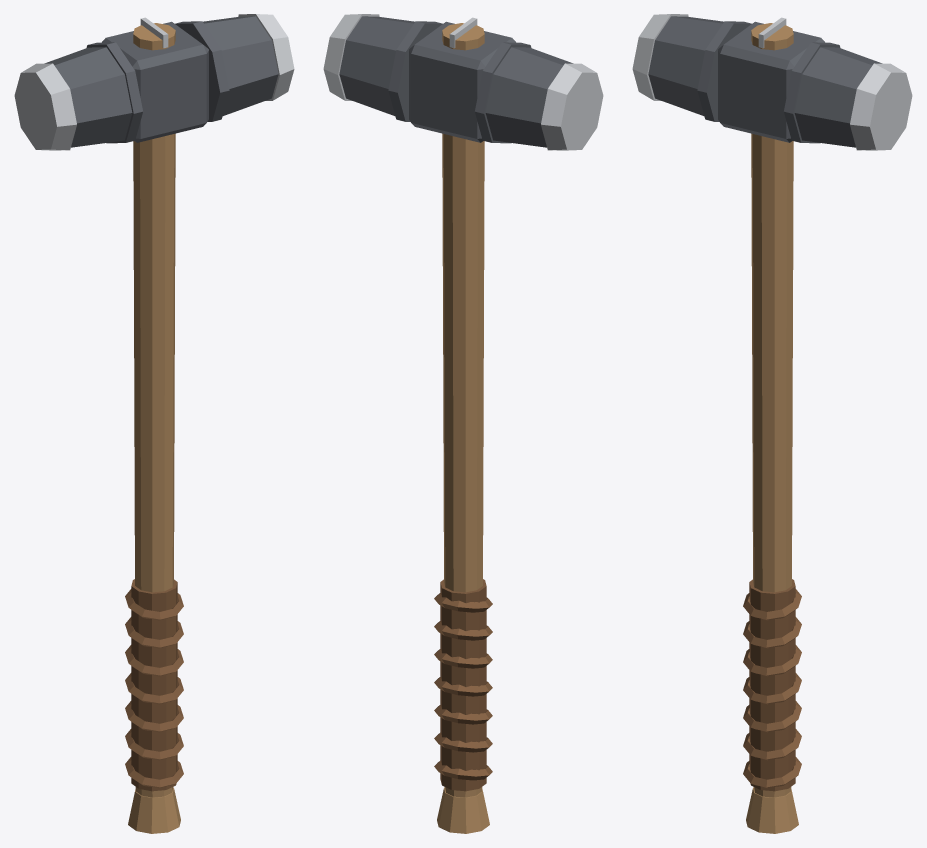
Rendered from sledgehammer.glb.
The picture shows the model from 3 angles, left to right: view 1: azimuth 30°, elevation 25°; view 2: azimuth 150°, elevation 25°; view 3: azimuth 330°, elevation 25°; orthographic projection.
Visible parts, largest first — view 1: Sledgehammer; view 2: Sledgehammer; view 3: Sledgehammer.
Boxes of the visible parts, bbox=[...] form: Sledgehammer: bbox=[14, 14, 294, 833]; Sledgehammer: bbox=[323, 14, 603, 833]; Sledgehammer: bbox=[632, 14, 912, 833].
Size of the model in its own units: 0.302 by 0.968 by 0.12.
